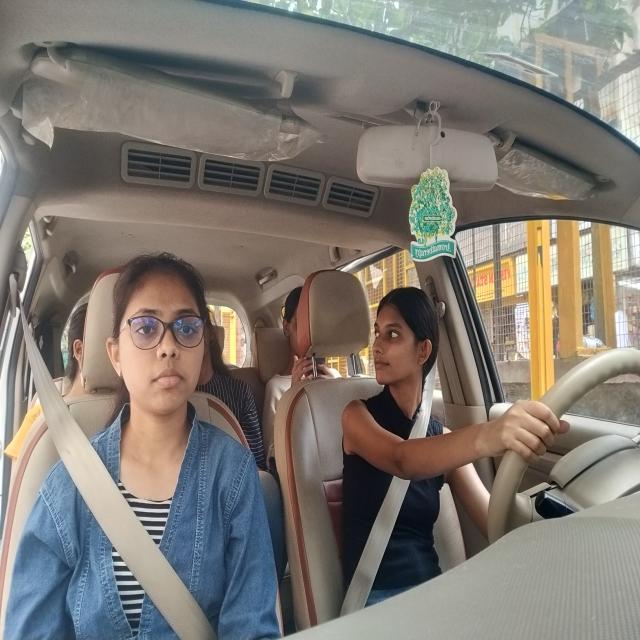LeftRight: (369, 283, 444, 396)
person: (108, 251, 208, 417), (284, 288, 313, 361), (67, 304, 91, 387)
